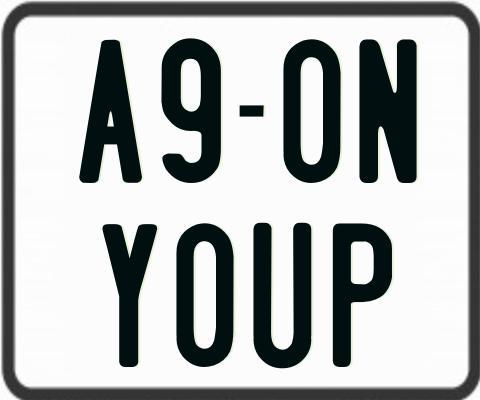0: (173, 221, 237, 365), (281, 37, 342, 181)
9: (161, 37, 225, 185)
A: (79, 40, 147, 183)
N: (357, 39, 416, 186)
P: (331, 221, 390, 371)
U: (253, 220, 313, 371)
Y: (101, 221, 155, 370)
